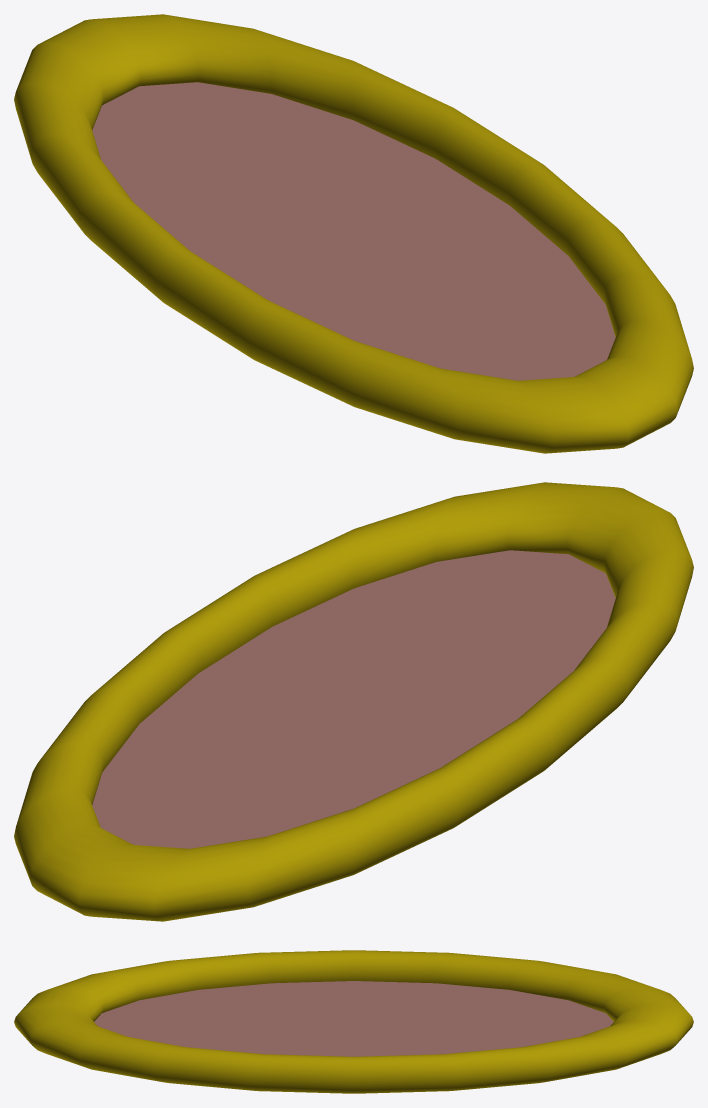
Rendered from Circular Frame_1.fbx.
3 views of the same model, one above another, from view 1: azimuth 30°, elevation 25°; view 2: azimuth 150°, elevation 25°; view 3: azimuth 270°, elevation 25° (orthographic). The views are drawn at different scales.
Visible parts, largest first — view 1: Circular_Frame_1_pTorus1; view 2: Circular_Frame_1_pTorus1; view 3: Circular_Frame_1_pTorus1.
Part boxes in pixels (x1,y1,x2,y2): Circular_Frame_1_pTorus1: (14, 14, 693, 453); Circular_Frame_1_pTorus1: (14, 482, 693, 921); Circular_Frame_1_pTorus1: (14, 950, 693, 1093).
Bounding box in the file's own units: 2.59 × 0.3467 × 6.18.
